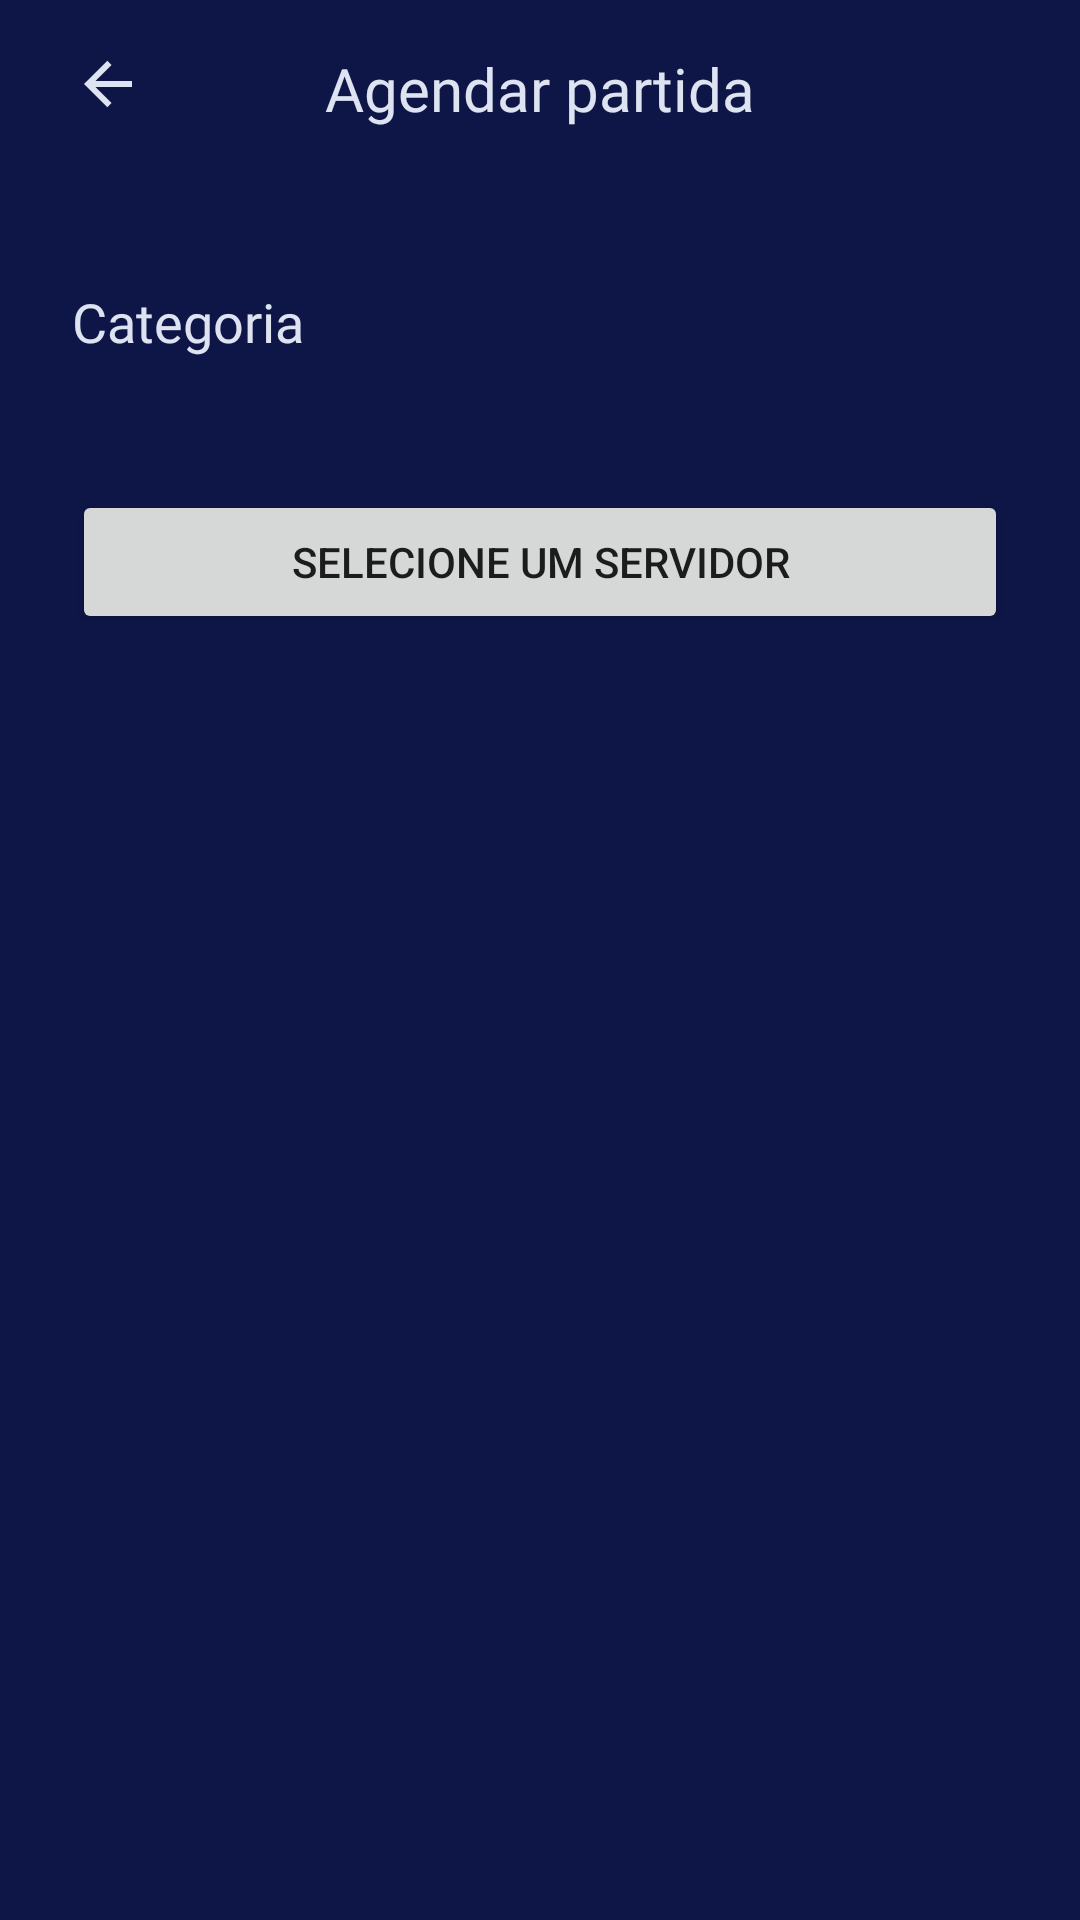

Where icons sit on this 1080x1920 app screen, as region(x1, y1, x2, y2):
lef arrow icon: region(84, 61, 132, 107)
